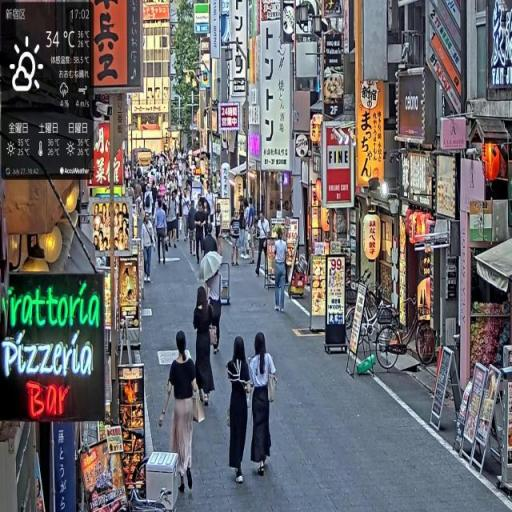person: (160, 330, 204, 495), (249, 330, 280, 480), (225, 339, 254, 489), (193, 285, 218, 412), (272, 229, 290, 316), (255, 209, 272, 283), (141, 212, 158, 284), (155, 201, 170, 268), (230, 205, 243, 268), (194, 203, 207, 264)
